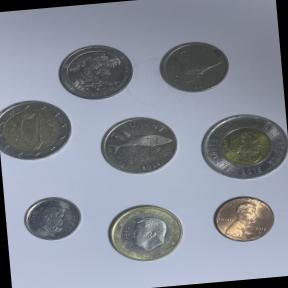1 Euro-B: (101, 196, 192, 267)
2 Euro-B: (0, 96, 77, 167)
Canada-10cent-B: (18, 192, 86, 246)
Canada-2Dollar-B: (191, 102, 288, 189)
Croatia-2Kune-B: (91, 108, 186, 186)
US-1cent-B: (207, 190, 282, 249)
US-25cent-B: (53, 40, 138, 105)
